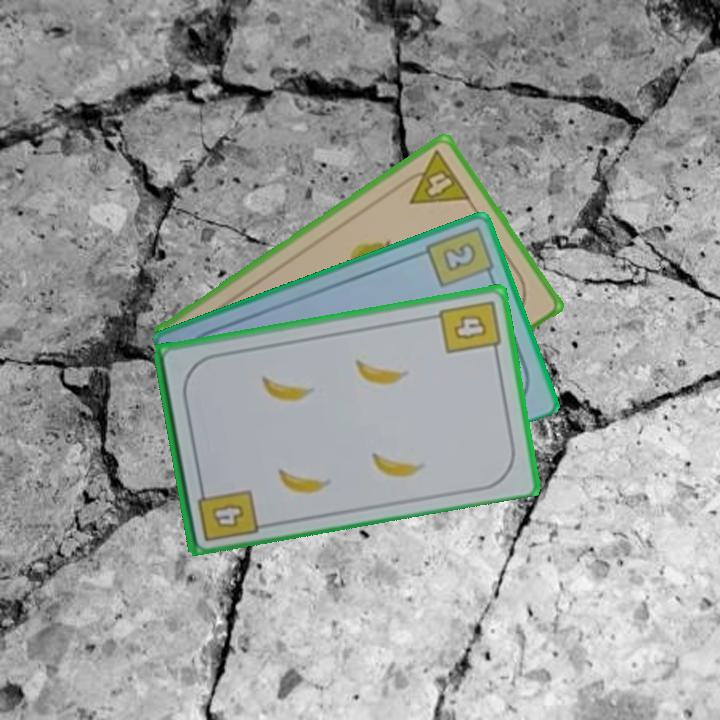2b: (422, 223, 498, 290)
4b: (193, 479, 260, 544), (435, 296, 503, 359)
4p: (394, 147, 474, 207)
